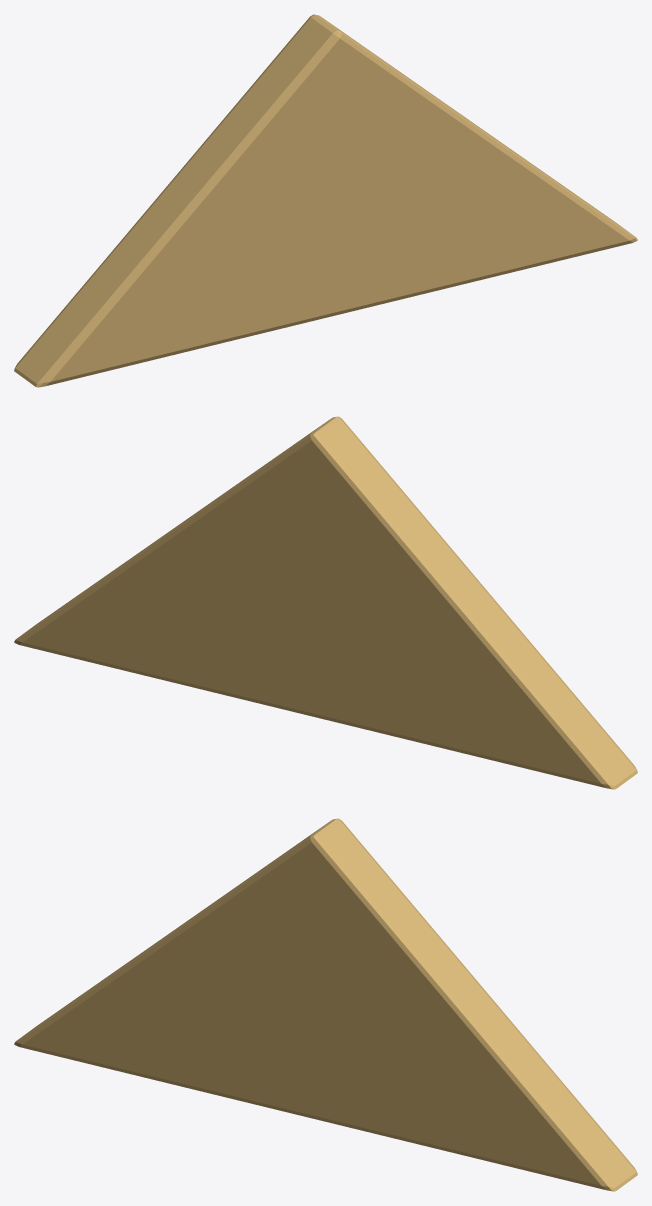
The model's file is gable_end_2m__finish.glb.
The picture shows the model from 3 angles, top to bottom: view 1: azimuth 30°, elevation 25°; view 2: azimuth 150°, elevation 25°; view 3: azimuth 330°, elevation 25°; orthographic projection.
Parts seen in each view (by area): view 1: gable_end_2m__finish__mesh_00; view 2: gable_end_2m__finish__mesh_00; view 3: gable_end_2m__finish__mesh_00.
Boxes of the visible parts, box(x1,y1,x2,y2) form: gable_end_2m__finish__mesh_00: box(14, 14, 637, 387); gable_end_2m__finish__mesh_00: box(14, 416, 637, 789); gable_end_2m__finish__mesh_00: box(14, 818, 637, 1191).
Bounding box in the file's own units: 1.98 × 0.893 × 0.16.
